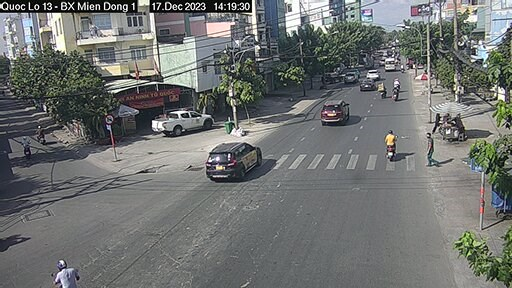car: (203, 138, 263, 181), (151, 109, 213, 135), (318, 97, 350, 129), (360, 76, 375, 92), (367, 69, 384, 82), (384, 58, 396, 74), (344, 71, 356, 85)
motorbike: (385, 130, 399, 160), (379, 79, 387, 100), (392, 86, 399, 101)
